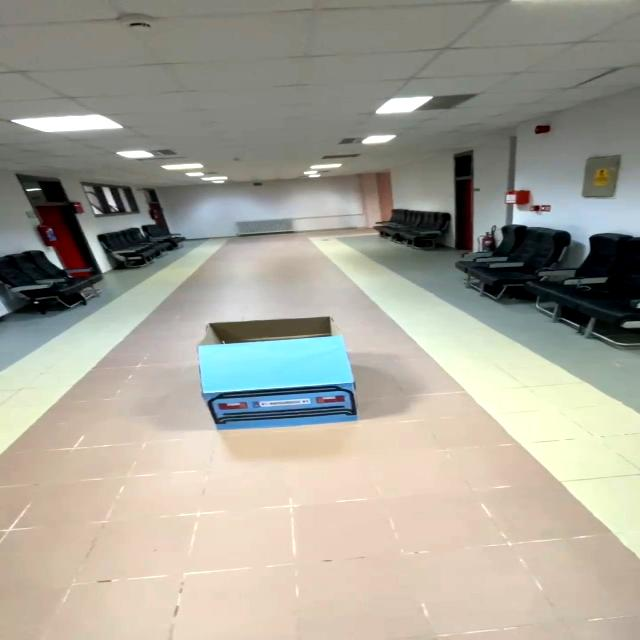blue_car: (174, 314, 390, 445)
